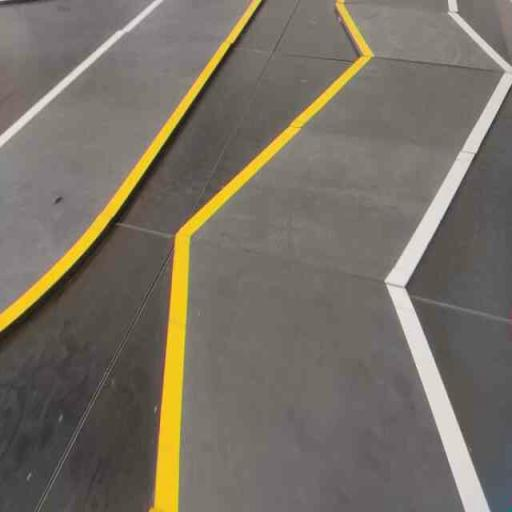crossleft: (150, 232, 496, 511)
